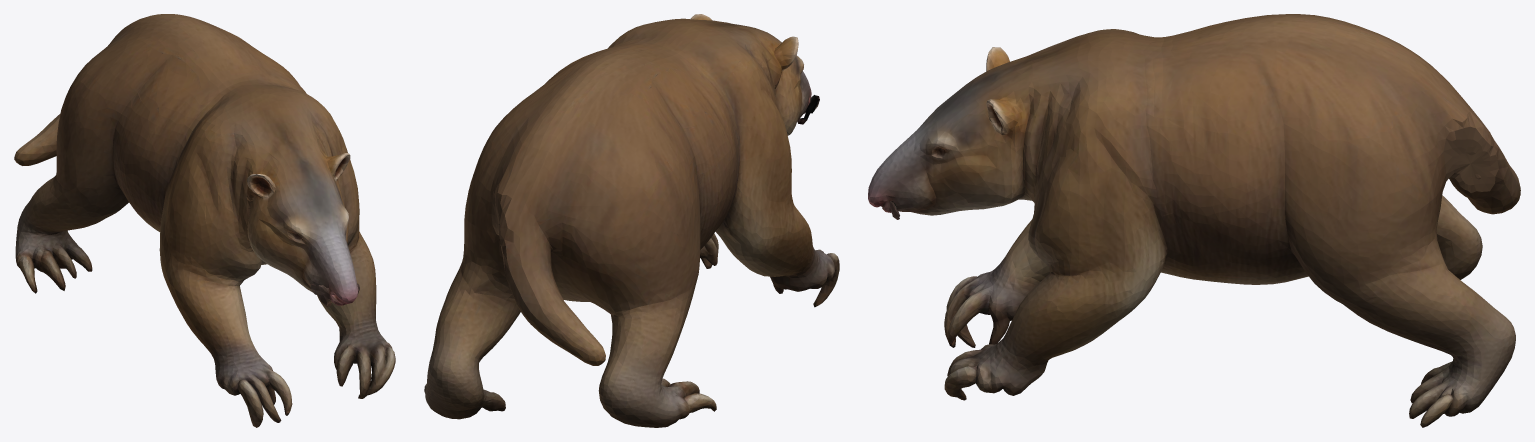
3 views of the same model, side by side, from view 1: azimuth 30°, elevation 25°; view 2: azimuth 150°, elevation 25°; view 3: azimuth 270°, elevation 25° (orthographic). The views are drawn at different scales.
Visible parts, largest first — view 1: world; view 2: world; view 3: world.
Boxes of the visible parts, <box> form: world: <box>14,14,395,427</box>; world: <box>424,14,839,427</box>; world: <box>868,14,1520,427</box>.
Size of the model in its own units: 1.53 by 1.86 by 3.02.
1 material, 1 textured.
